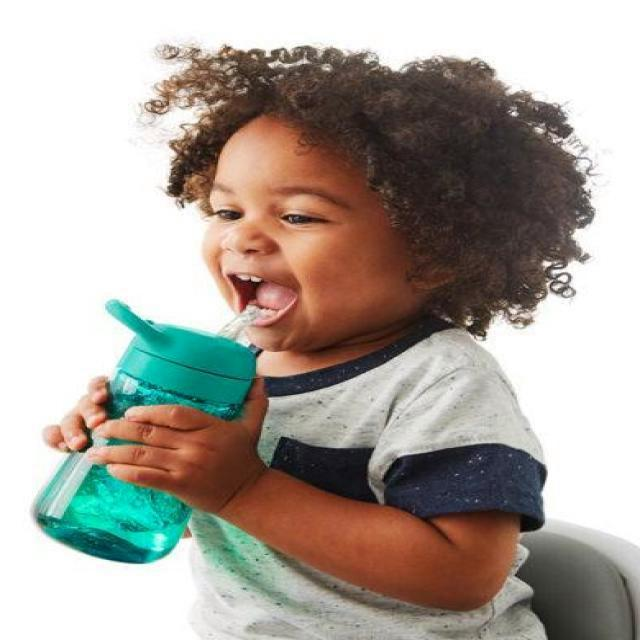child: (31, 36, 597, 639)
